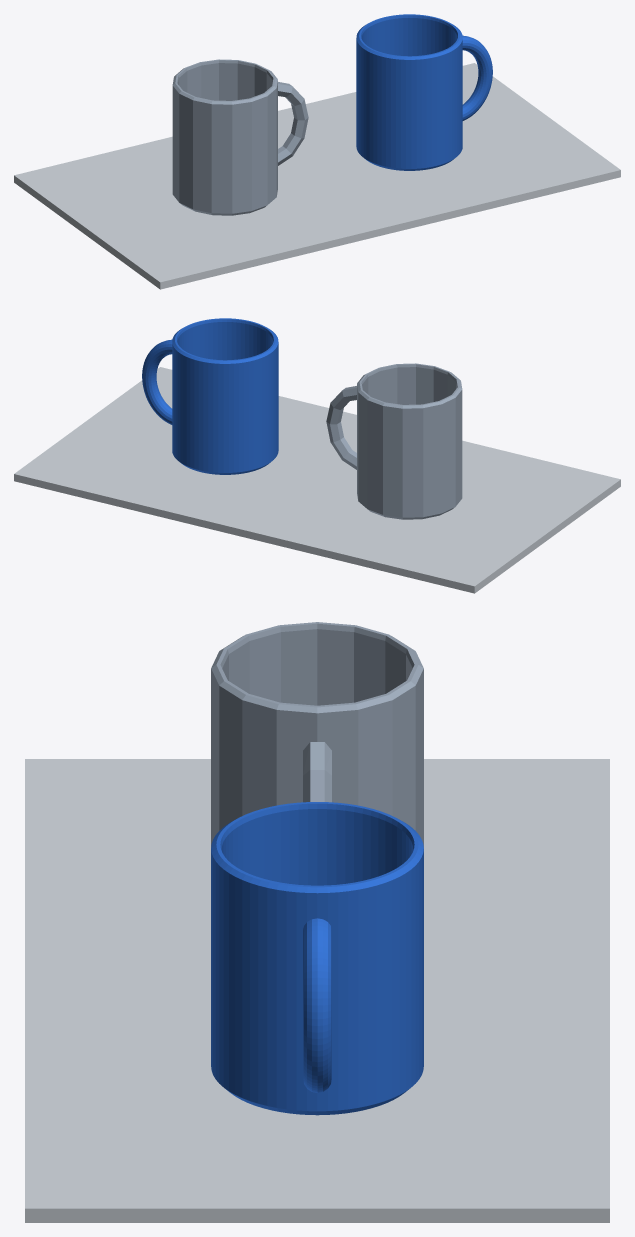
Rendered from ish05.glb.
3 renders of one model, top to bottom at view 1: azimuth 30°, elevation 25°; view 2: azimuth 150°, elevation 25°; view 3: azimuth 270°, elevation 25°, orthographic. The views are drawn at different scales.
Parts seen in each view (by area): view 1: Stol, Krujka_TurboSmooth, Krujka_cage_16, Tutqich_smooth, Tutqich_cage; view 2: Stol, Krujka_TurboSmooth, Krujka_cage_16, Tutqich_smooth, Tutqich_cage; view 3: Stol, Krujka_TurboSmooth, Krujka_cage_16, Tutqich_smooth, Tutqich_cage.
Part boxes in pixels (<box>): Stol: <box>14,63,620,289</box>; Krujka_TurboSmooth: <box>356,14,462,170</box>; Krujka_cage_16: <box>172,59,277,215</box>; Tutqich_smooth: <box>462,35,492,120</box>; Tutqich_cage: <box>278,82,308,165</box>; Stol: <box>14,367,620,593</box>; Krujka_TurboSmooth: <box>172,318,278,474</box>; Krujka_cage_16: <box>357,363,462,519</box>; Tutqich_smooth: <box>142,339,172,424</box>; Tutqich_cage: <box>326,386,356,469</box>; Stol: <box>25,759,609,1222</box>; Krujka_TurboSmooth: <box>211,802,423,1115</box>; Krujka_cage_16: <box>211,622,423,847</box>; Tutqich_smooth: <box>303,918,331,1092</box>; Tutqich_cage: <box>303,742,331,802</box>.
Size of the model in its own units: 0.4 by 0.101 by 0.22.
